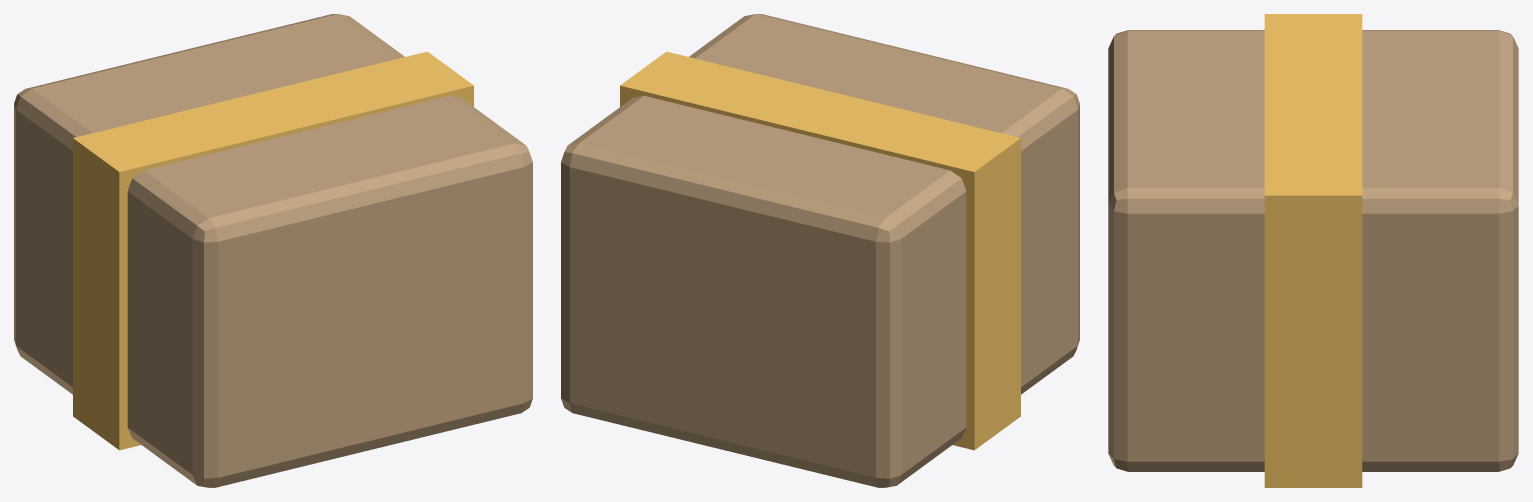
The model's file is caja_material.glb.
3 views of the same model, side by side, from view 1: azimuth 30°, elevation 25°; view 2: azimuth 150°, elevation 25°; view 3: azimuth 270°, elevation 25° (orthographic). The views are drawn at different scales.
Visible parts, largest first — view 1: caja, franja; view 2: caja, franja; view 3: caja, franja.
Boxes of the visible parts, left/top/right/bottom form: caja: left=14, top=14, right=532, bottom=487; franja: left=73, top=51, right=473, bottom=450; caja: left=561, top=14, right=1079, bottom=487; franja: left=620, top=51, right=1020, bottom=450; caja: left=1108, top=30, right=1518, bottom=471; franja: left=1264, top=14, right=1362, bottom=487.
Size of the model in its own units: 0.44 by 0.33 by 0.42.
